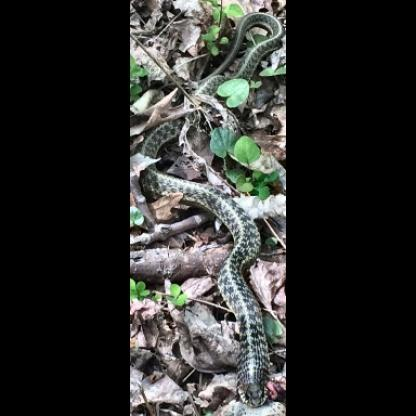Snake: (138, 8, 285, 412)
